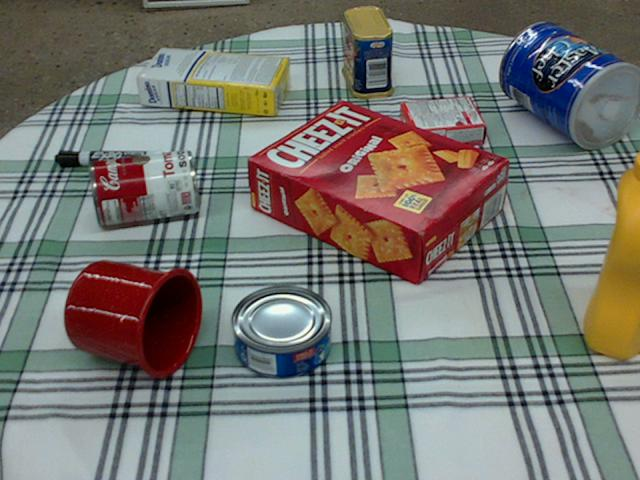cracker_box: (249, 98, 508, 282)
gelatin_box: (398, 92, 485, 151)
large_marker: (54, 150, 162, 166)
master_chef_can: (497, 22, 639, 148)
mug: (63, 260, 201, 377)
mustard_bottle: (583, 149, 639, 356)
potted_meat_can: (340, 5, 393, 98)
sugar_box: (137, 48, 291, 114)
tomato_soup_can: (88, 148, 199, 225)
tuna_fish_can: (229, 285, 331, 379)
